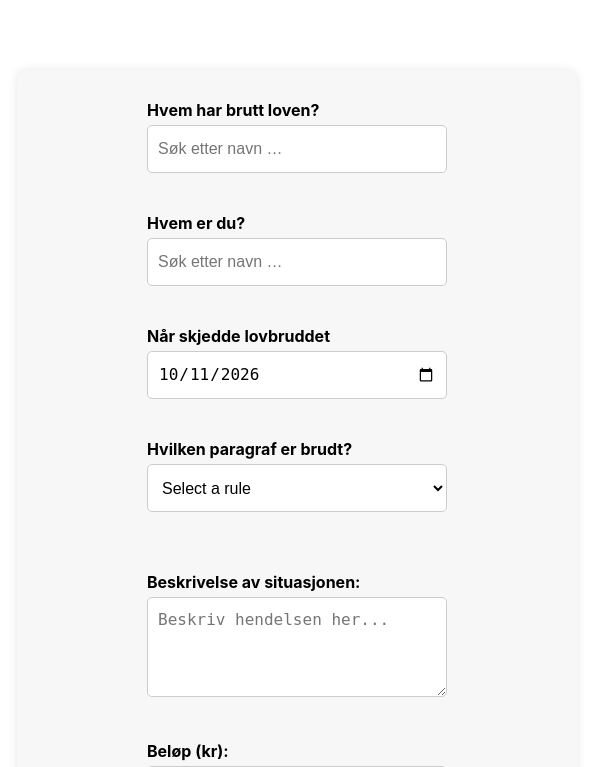
Scenario: selecting a paragraph fills its rate and allows amounts above 30 kr
Select "§ 1 Forfall (50)" in the dropdown labelled "Hvilken paragraf er brudt?" at (297,488), box [147,464,447,512]
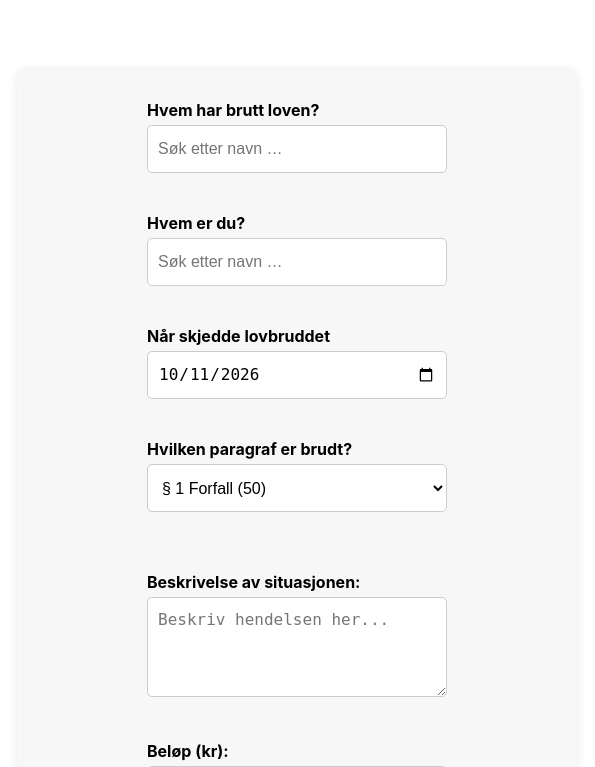
Select "§ 15b Frukt (350)" in the dropdown labelled "Hvilken paragraf er brudt?" at (297,488), box [147,464,447,512]
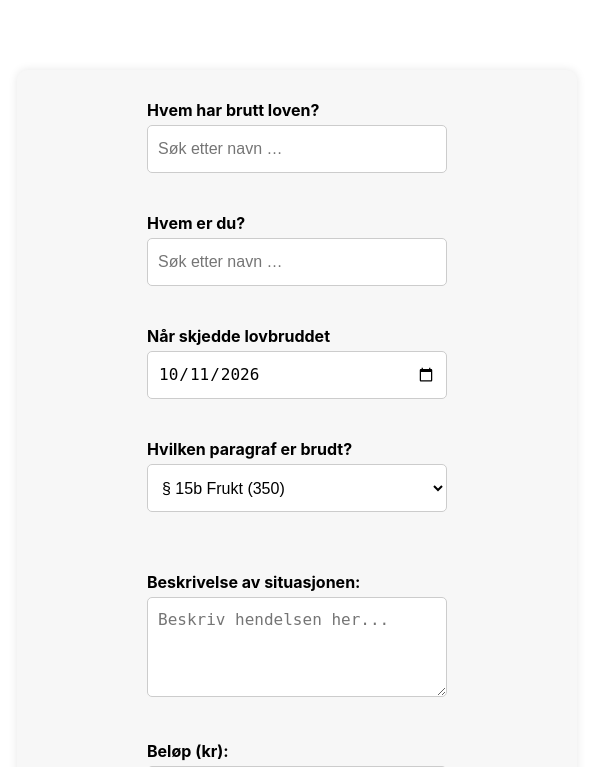
Select "§ 3 Utstyr (25 kr)" in the dropdown labelled "Hvilken paragraf er brudt?" at (297,488), box [147,464,447,512]
(page scrolled)
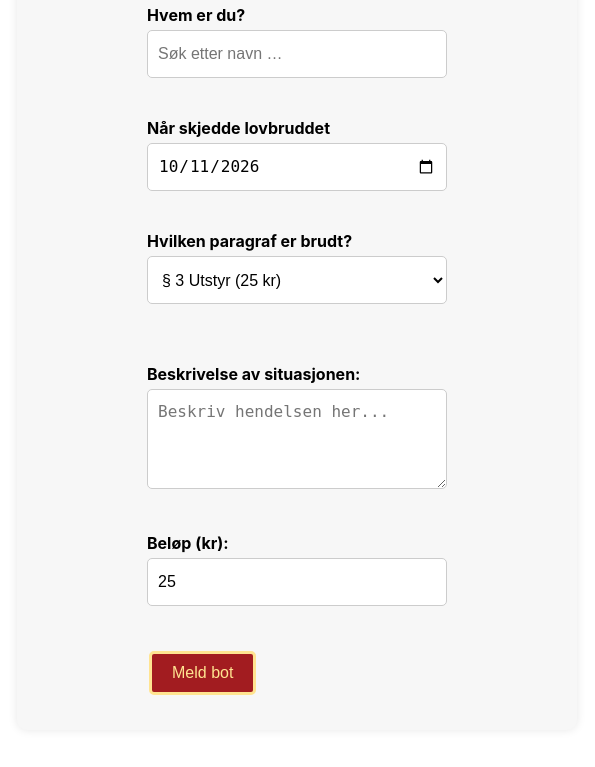
Expected: the number field labelled "Beløp (kr):" holds "25", [147,558,447,606]
